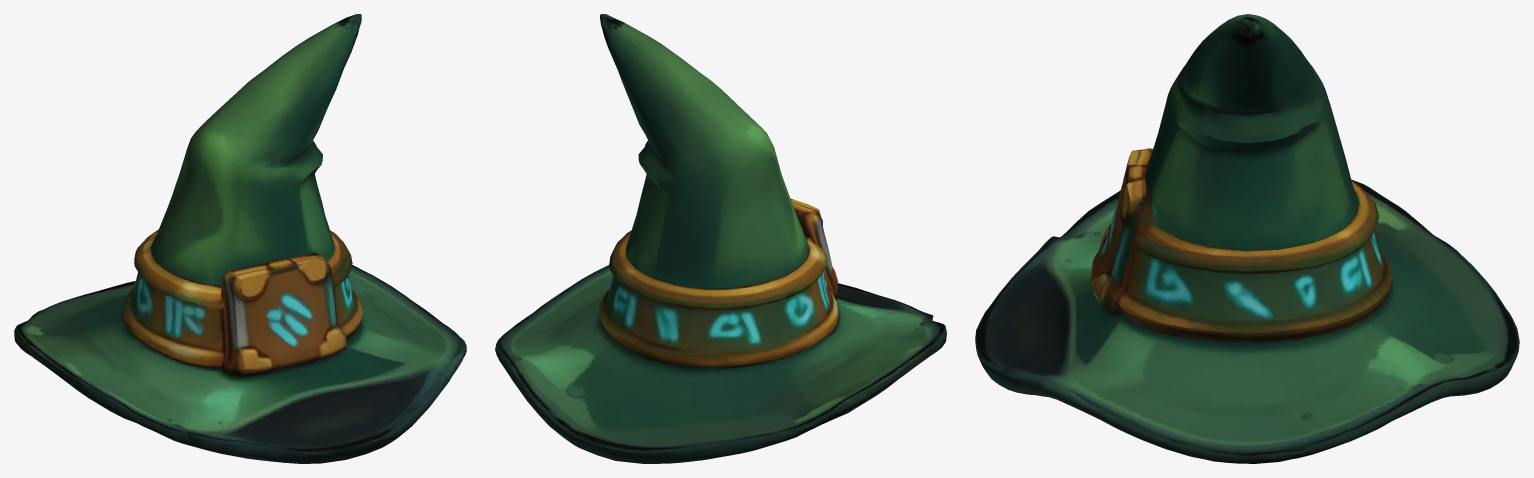
Rendered from leg_ma_archivist_hat.glb.
3 renders of one model, left to right at view 1: azimuth 30°, elevation 25°; view 2: azimuth 150°, elevation 25°; view 3: azimuth 270°, elevation 25°, orthographic. The views are drawn at different scales.
Visible parts, largest first — view 1: world; view 2: world; view 3: world.
Boxes of the visible parts, x1,y1,x2,y2 form: world: (14, 14, 466, 463); world: (495, 14, 946, 463); world: (975, 14, 1519, 463).
Bounding box in the file's own units: 0.46 × 0.3805 × 0.4592.
1 material, 1 textured.
